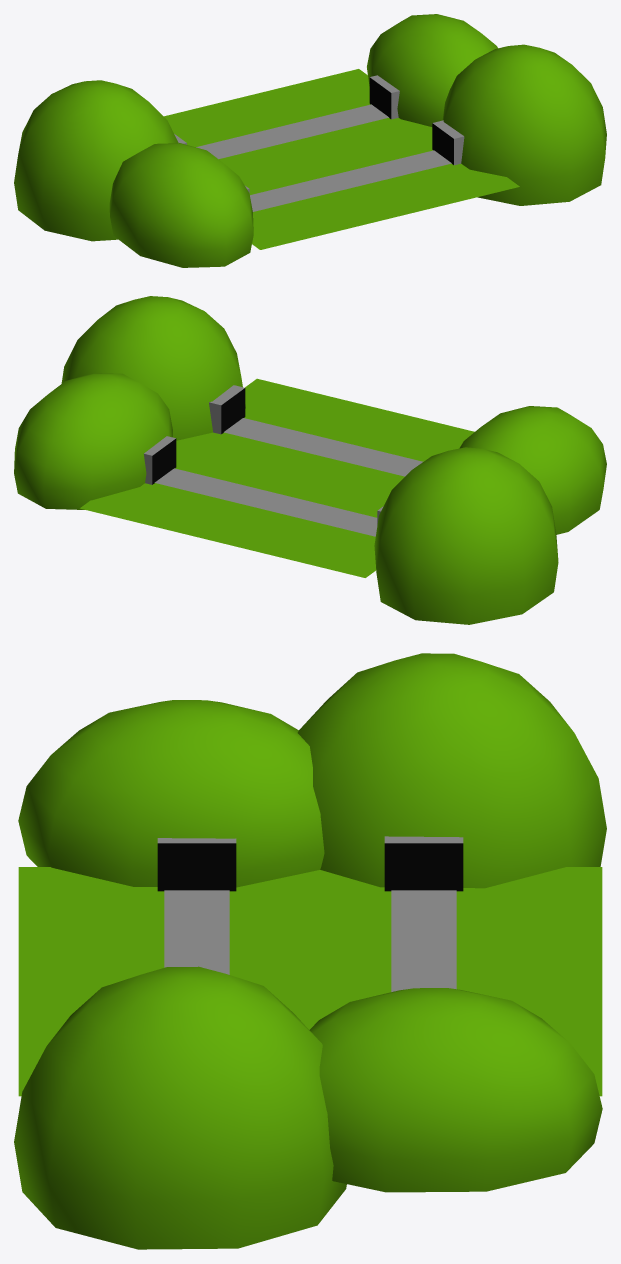
File: Scale_Blockout.fbx
The picture shows the model from 3 angles, top to bottom: view 1: azimuth 30°, elevation 25°; view 2: azimuth 150°, elevation 25°; view 3: azimuth 270°, elevation 25°; orthographic projection. The views are drawn at different scales.
Parts seen in each view (by area): view 1: pasted__polySurface2; view 2: pasted__polySurface2; view 3: pasted__polySurface2.
Boxes of the visible parts, x1,y1,x2,y2 form: pasted__polySurface2: (14,14,606,267); pasted__polySurface2: (14,296,606,624); pasted__polySurface2: (14,653,606,1249).
Size of the model in its own units: 157 by 35.49 by 89.76.
